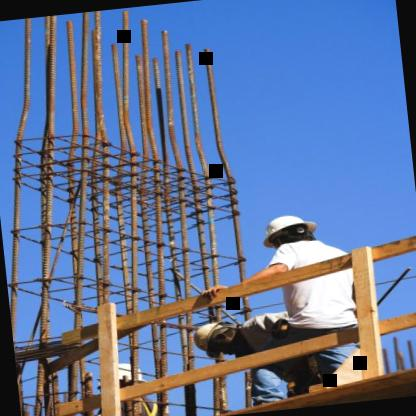helmet: (255, 208, 328, 255)
